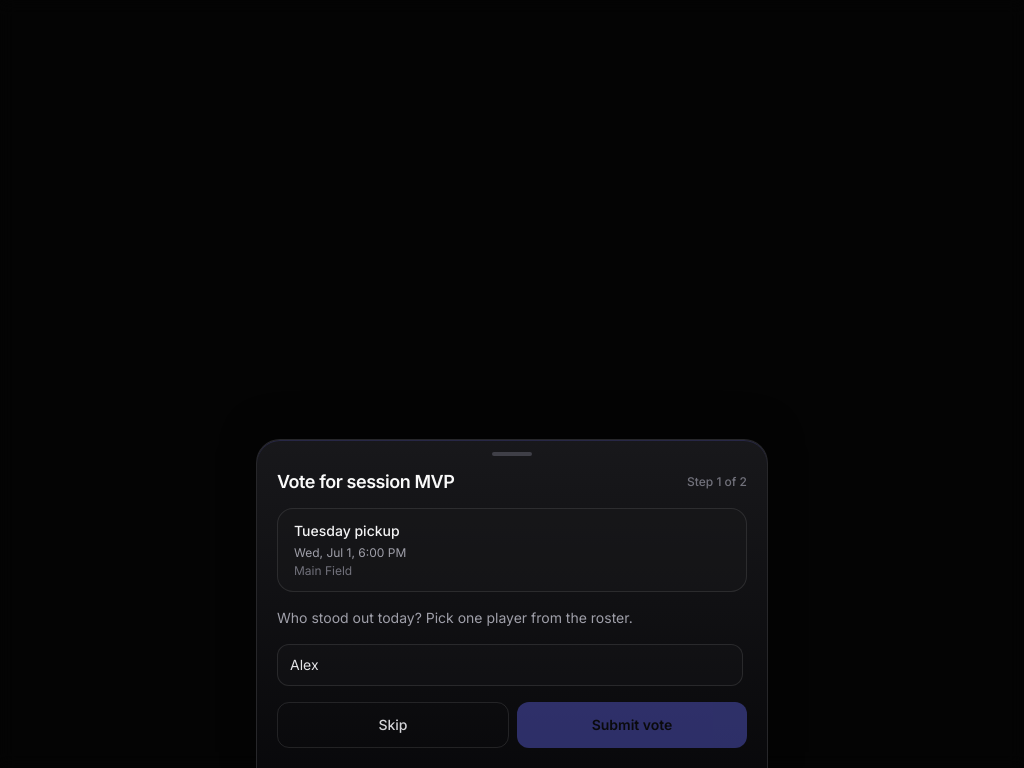
Test: SessionDebriefSheet › submits an MVP vote and advances to feedback
This screenshot has width=1024, height=768.
Click the button "Alex" at (304, 664), box [277,644,743,686]
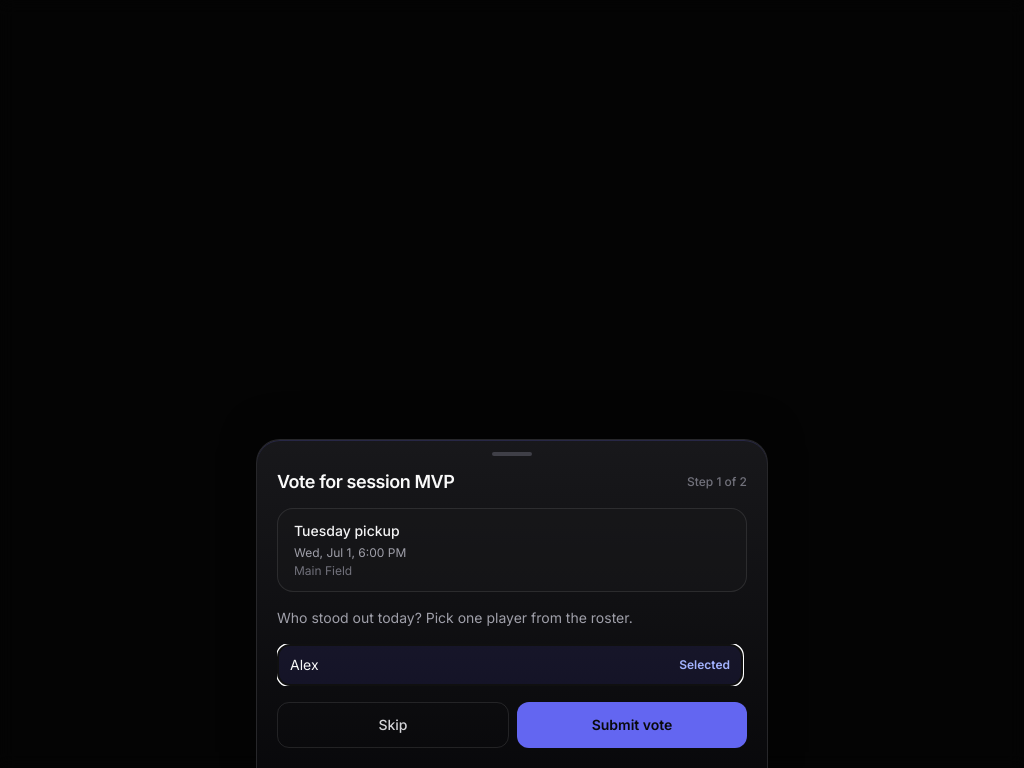
Click the button "Submit vote" at (632, 725), box [517,702,747,748]
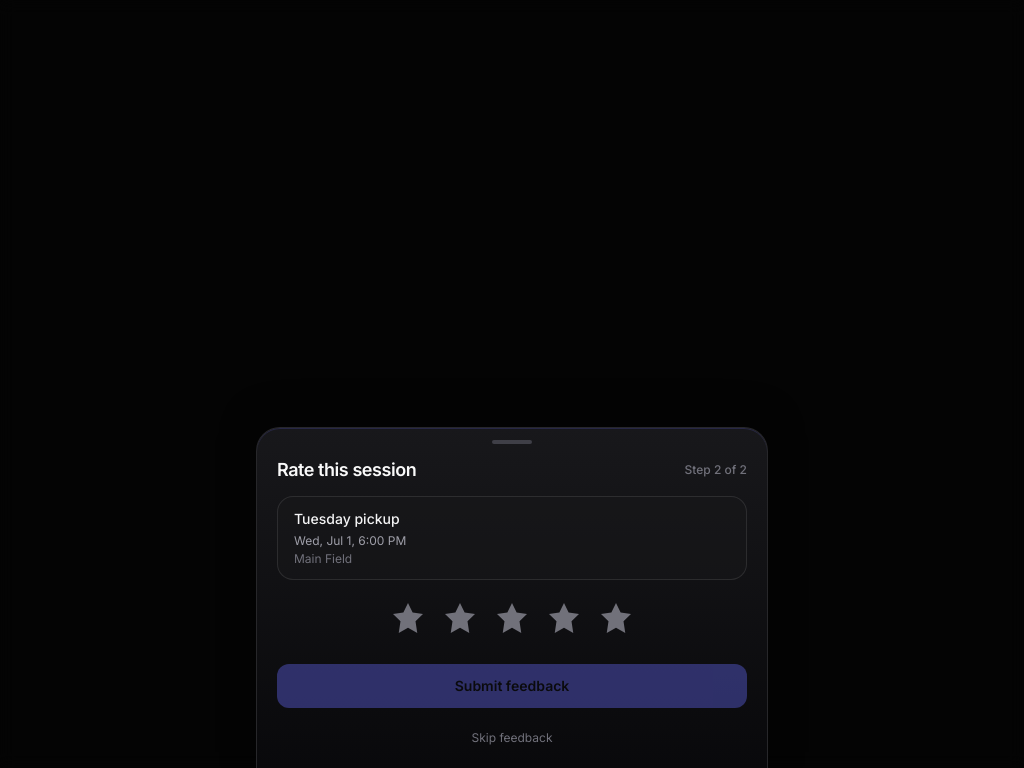
Now the heading "Rate this session" is shown, box [277,456,416,484]
